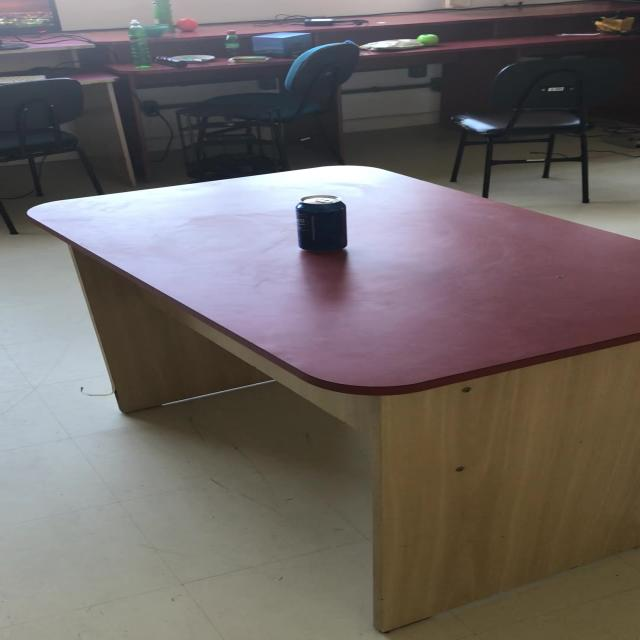tonic: (293, 194, 347, 251), (126, 19, 151, 68), (222, 30, 238, 55)
